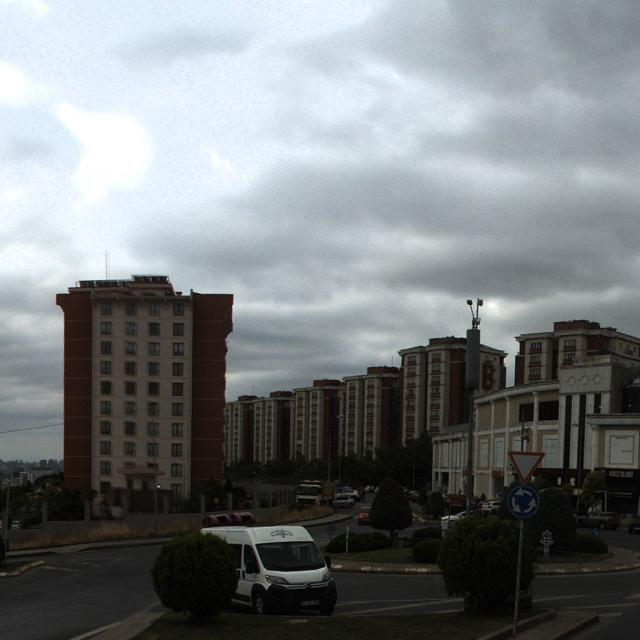SignStore: (600, 467, 637, 481), (534, 468, 591, 477), (491, 470, 503, 477)
